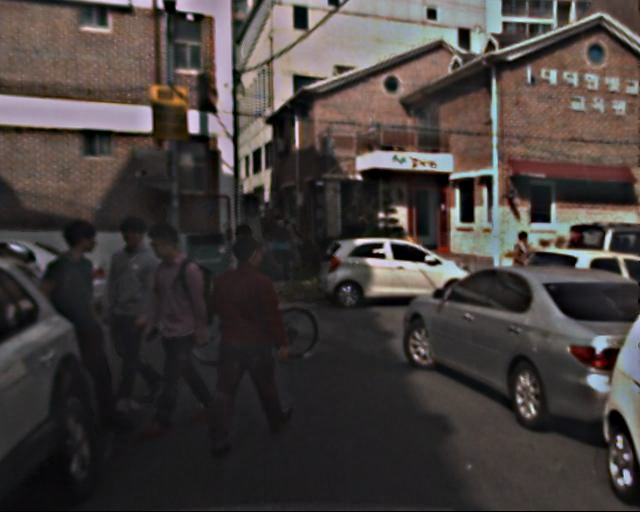person: (42, 221, 140, 427), (131, 225, 223, 431), (203, 239, 287, 446), (97, 214, 182, 403), (223, 222, 285, 362), (562, 227, 596, 306), (508, 231, 539, 306), (264, 218, 304, 271)
